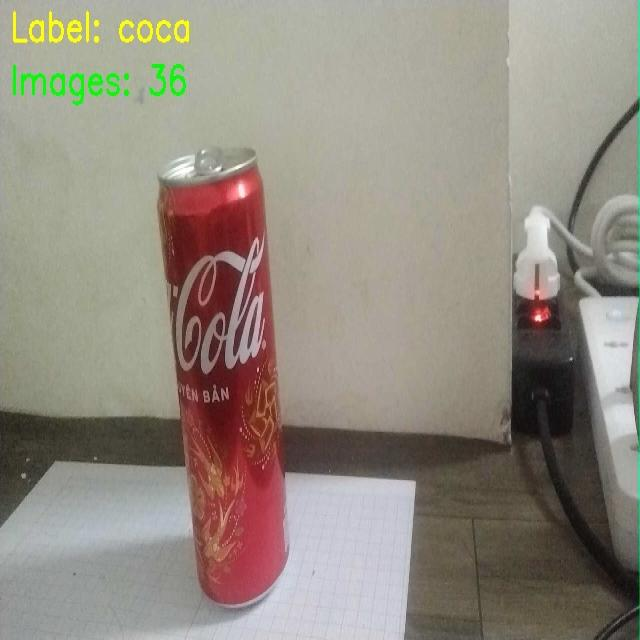Coca: (136, 145, 339, 612)
